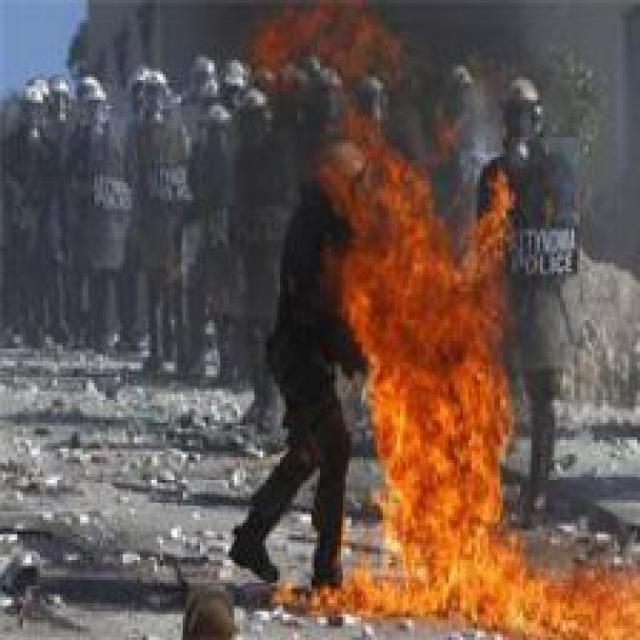fire: (274, 123, 637, 637)
